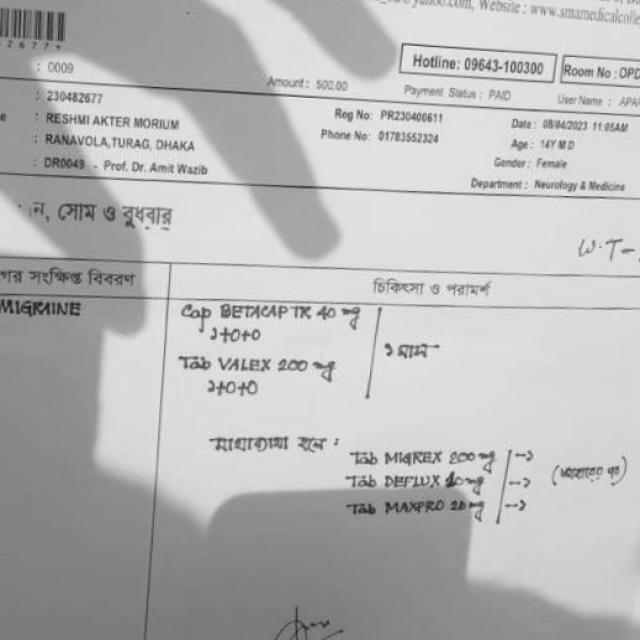medicine: (214, 300, 317, 324), (214, 348, 280, 380)
